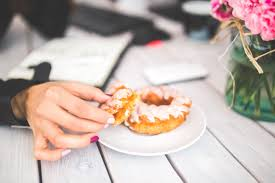hand: (7, 69, 111, 164)
